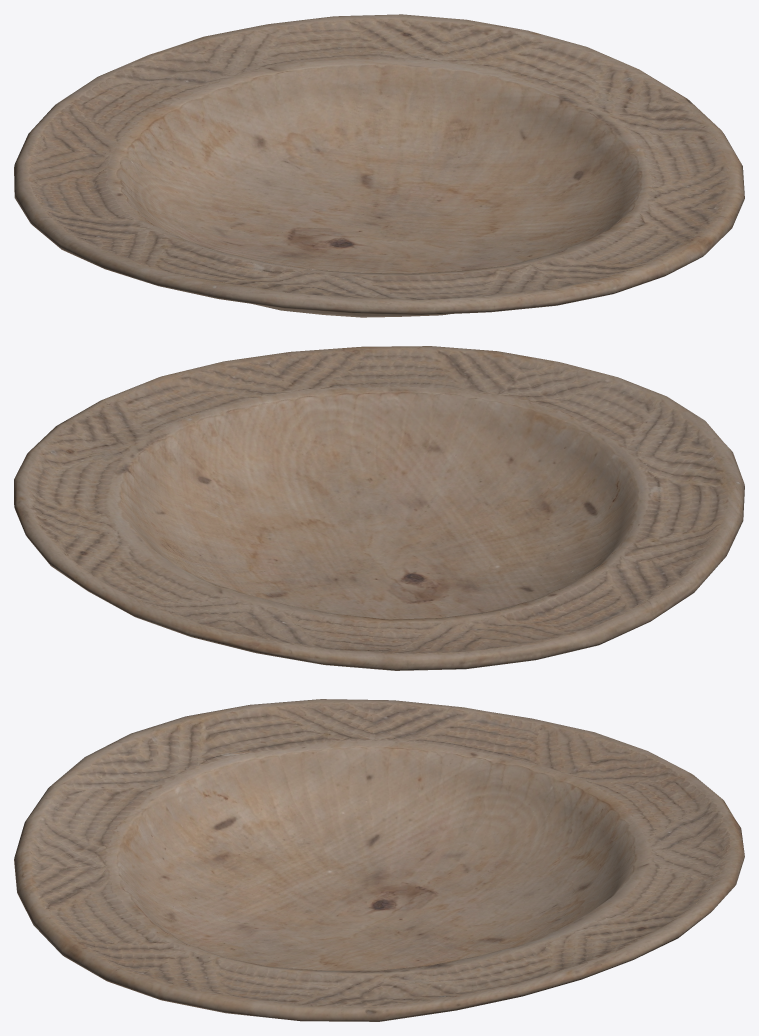
The model's file is carved_wooden_plate.glb.
3 views of the same model, one above another, from view 1: azimuth 30°, elevation 25°; view 2: azimuth 150°, elevation 25°; view 3: azimuth 270°, elevation 25° (orthographic). The views are drawn at different scales.
Parts seen in each view (by area): view 1: carved_wooden_plate; view 2: carved_wooden_plate; view 3: carved_wooden_plate.
Boxes of the visible parts, left/top/right/bottom form: carved_wooden_plate: left=14, top=14, right=744, bottom=317; carved_wooden_plate: left=14, top=346, right=744, bottom=670; carved_wooden_plate: left=14, top=699, right=744, bottom=1021.
Size of the model in its own units: 0.2718 by 0.0381 by 0.2688.
1 material, 1 textured.
